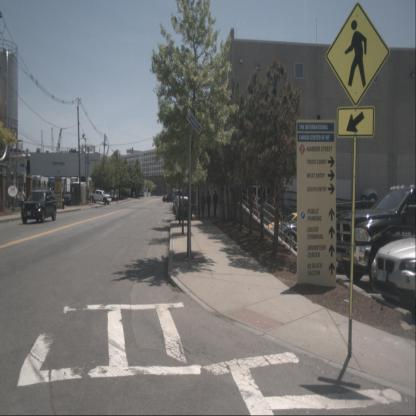human-pedestrian-adult: (212, 190, 218, 218), (19, 187, 25, 215), (201, 192, 206, 219), (207, 192, 211, 218)
vehicle-car: (371, 207, 416, 319), (276, 205, 341, 248), (266, 212, 321, 242), (21, 189, 57, 224), (176, 198, 193, 220), (174, 196, 190, 217), (173, 195, 186, 211), (62, 193, 76, 205), (162, 193, 174, 202)
vehicle-truck: (333, 183, 416, 291), (87, 190, 111, 204)
